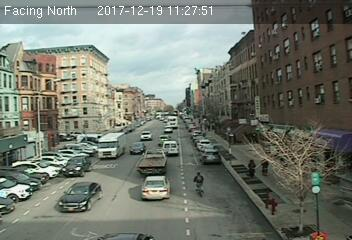bicycle: (192, 169, 206, 200)
car: (56, 182, 102, 211), (142, 174, 172, 202), (60, 156, 92, 177), (201, 149, 220, 162), (130, 142, 145, 154), (140, 130, 151, 140)
truck: (97, 131, 126, 158), (138, 150, 166, 175), (161, 141, 179, 155)
